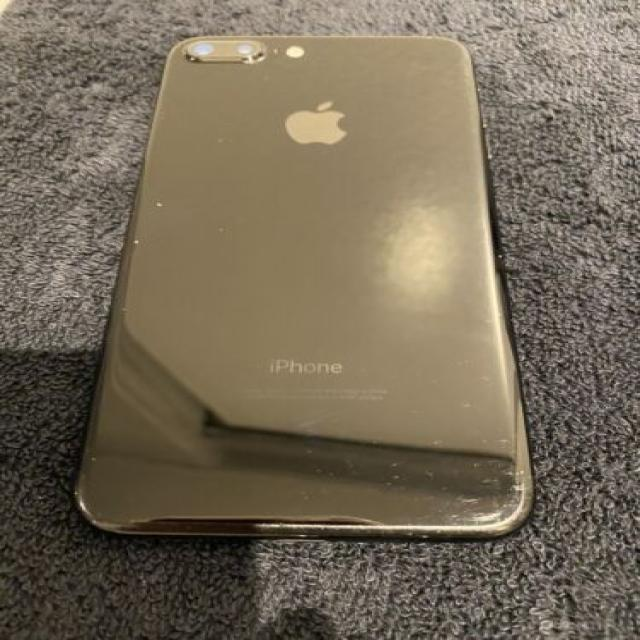Dents: (209, 215, 237, 248), (208, 127, 235, 154), (126, 237, 148, 260), (154, 191, 168, 224)
Scratches: (404, 431, 551, 544), (70, 438, 97, 523)
